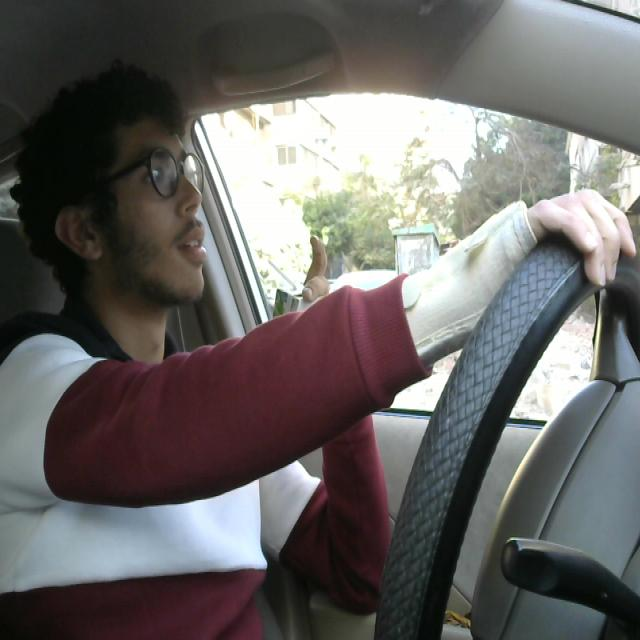drinking: (259, 253, 316, 409)
